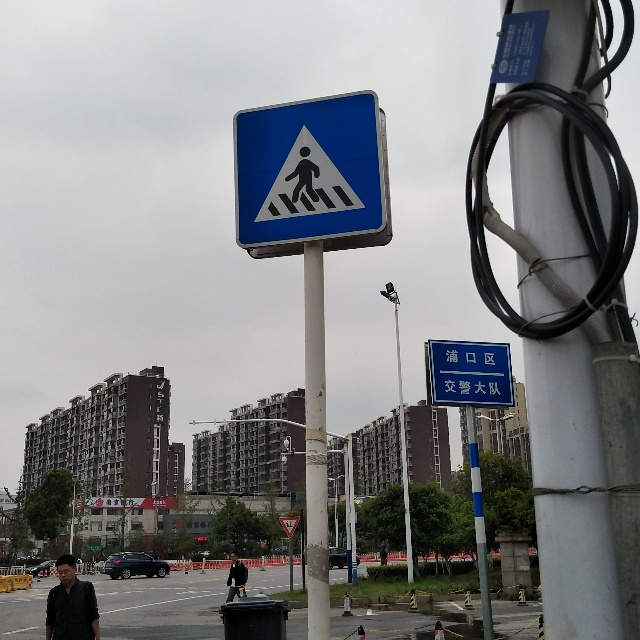crosswalk: (241, 114, 369, 233)
